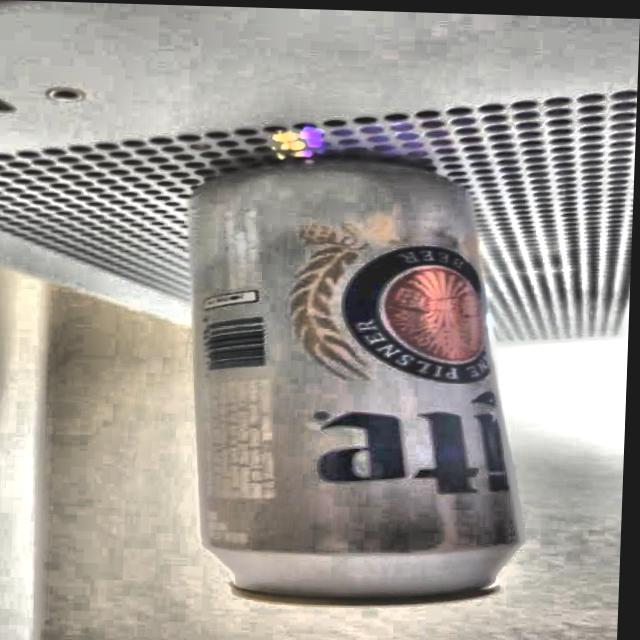can: (166, 139, 542, 622)
